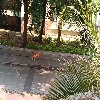fire: (33, 52, 40, 59)
